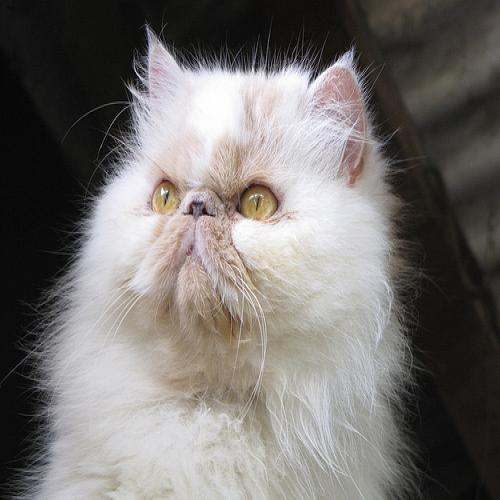persian: (113, 16, 378, 379)
